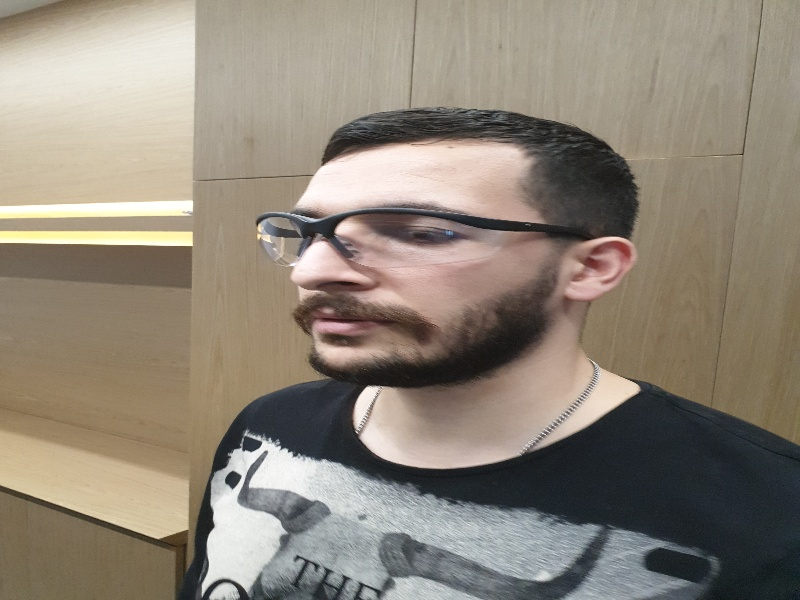Gozluk: (253, 206, 589, 268)
